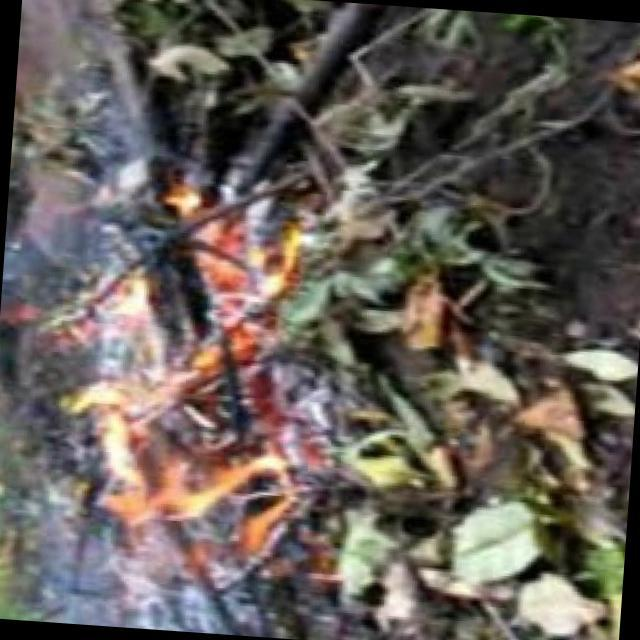Fire: (49, 171, 321, 597)
